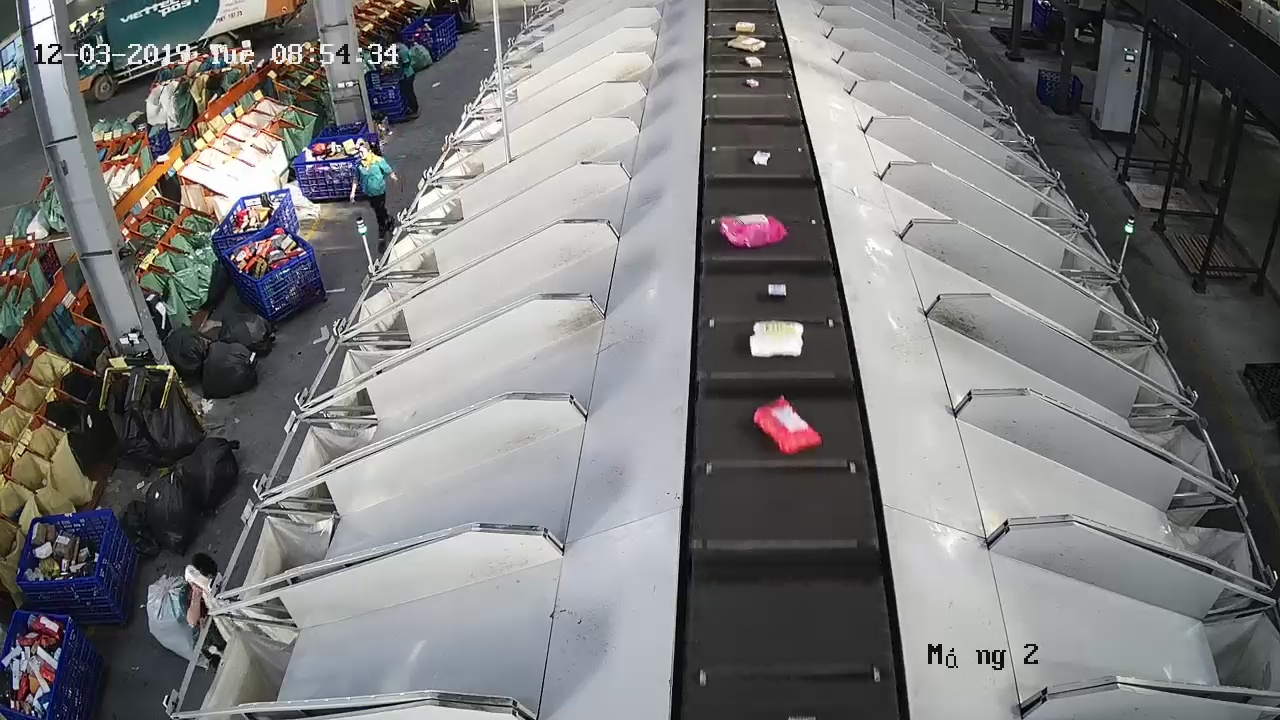parcel: (752, 395, 824, 457), (717, 212, 790, 250), (749, 319, 805, 359), (751, 149, 772, 167), (766, 282, 788, 299)
